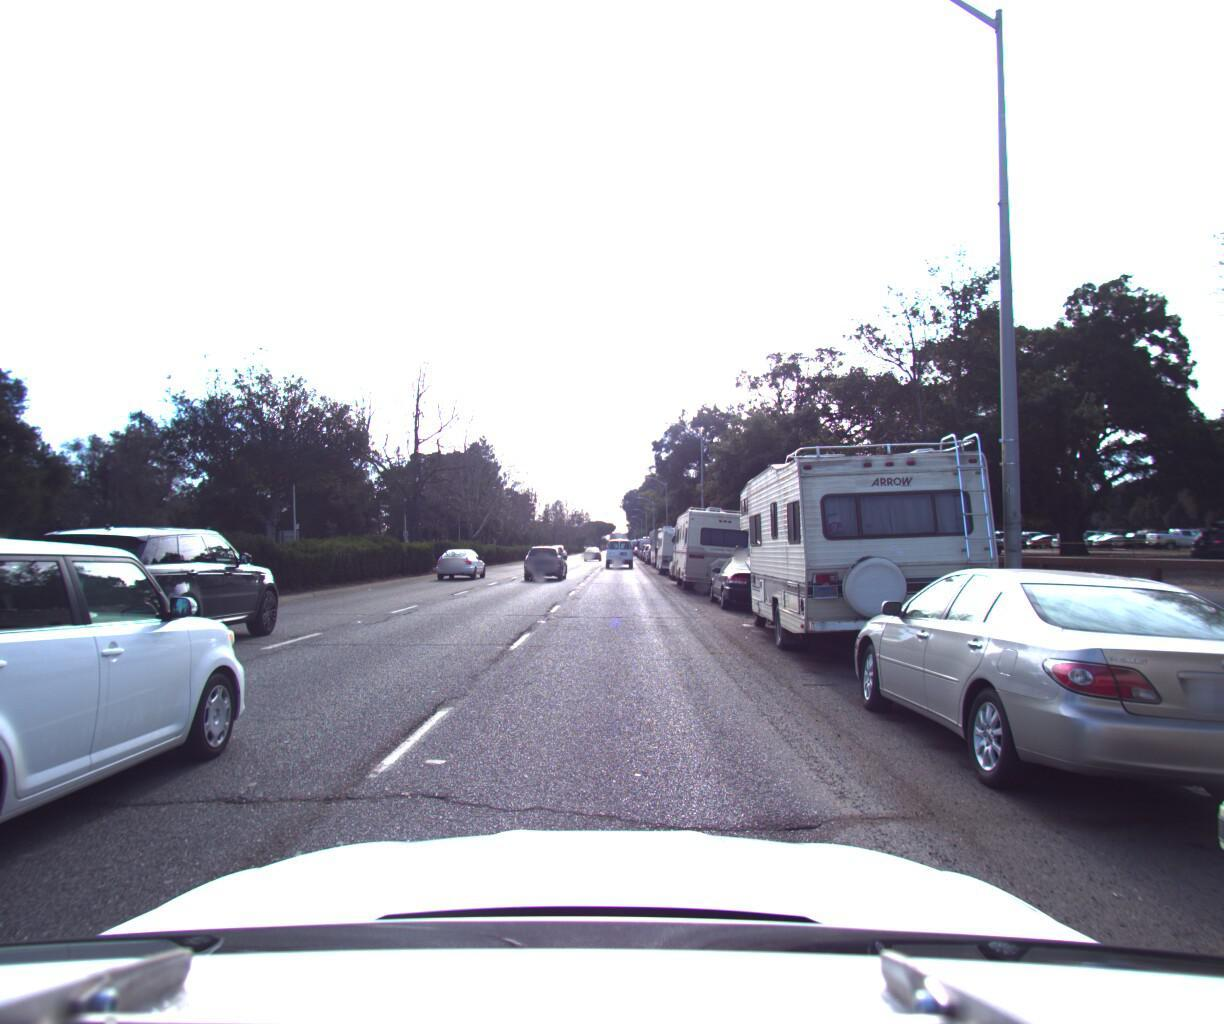car: (0, 510, 272, 1009), (830, 551, 1224, 868), (3, 514, 297, 665), (702, 548, 794, 608), (435, 539, 489, 576), (521, 538, 569, 577), (662, 544, 712, 576), (604, 529, 632, 560), (582, 537, 601, 553)
other_vehicle: (730, 409, 1006, 689), (668, 490, 769, 588), (653, 516, 702, 570), (645, 515, 684, 560)
